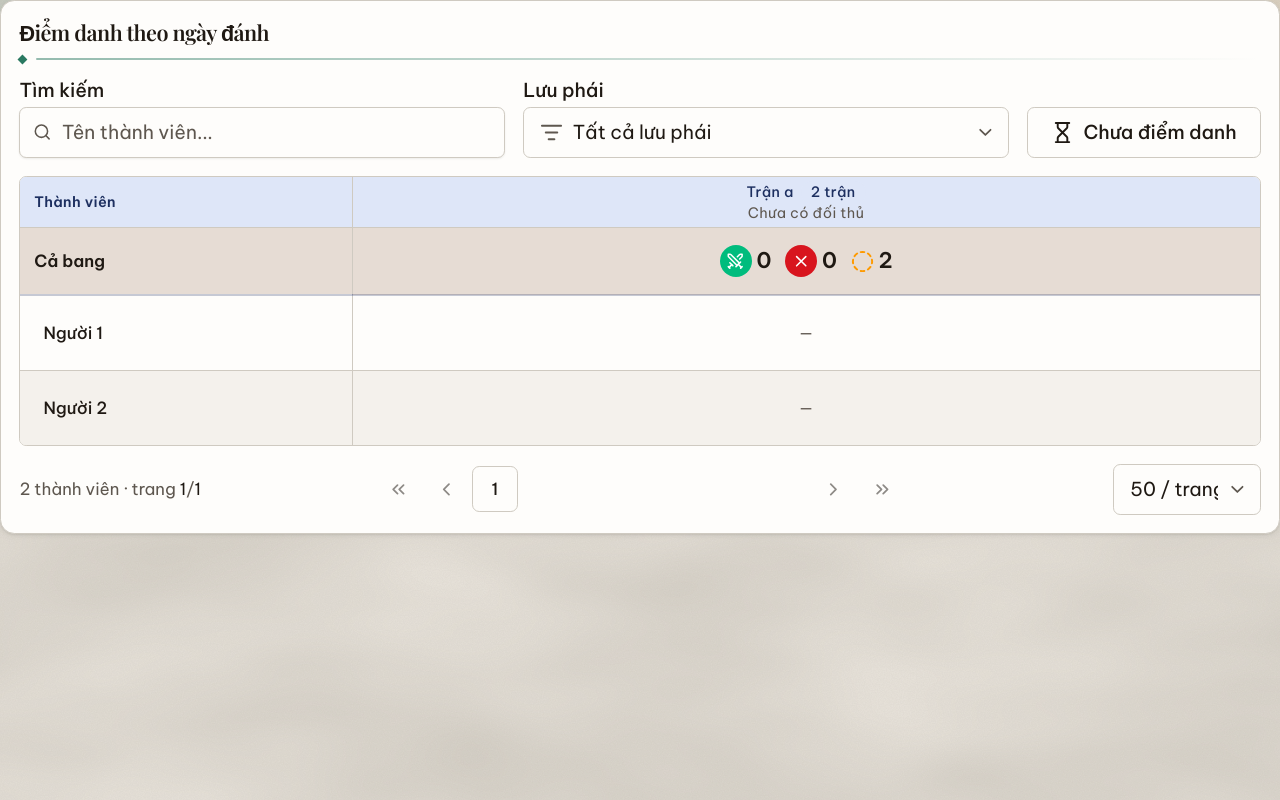
Test case: AttendanceGrid - admin bấm thẳng vào ô › lưu lỗi một phần thì giữ lại đúng ô lỗi và báo lỗi
What coordinates should you click on to do the following:
click the button "—" in the row of "Người 1"
I would click on:
 (806, 333)
Its box is [783,310,829,356].
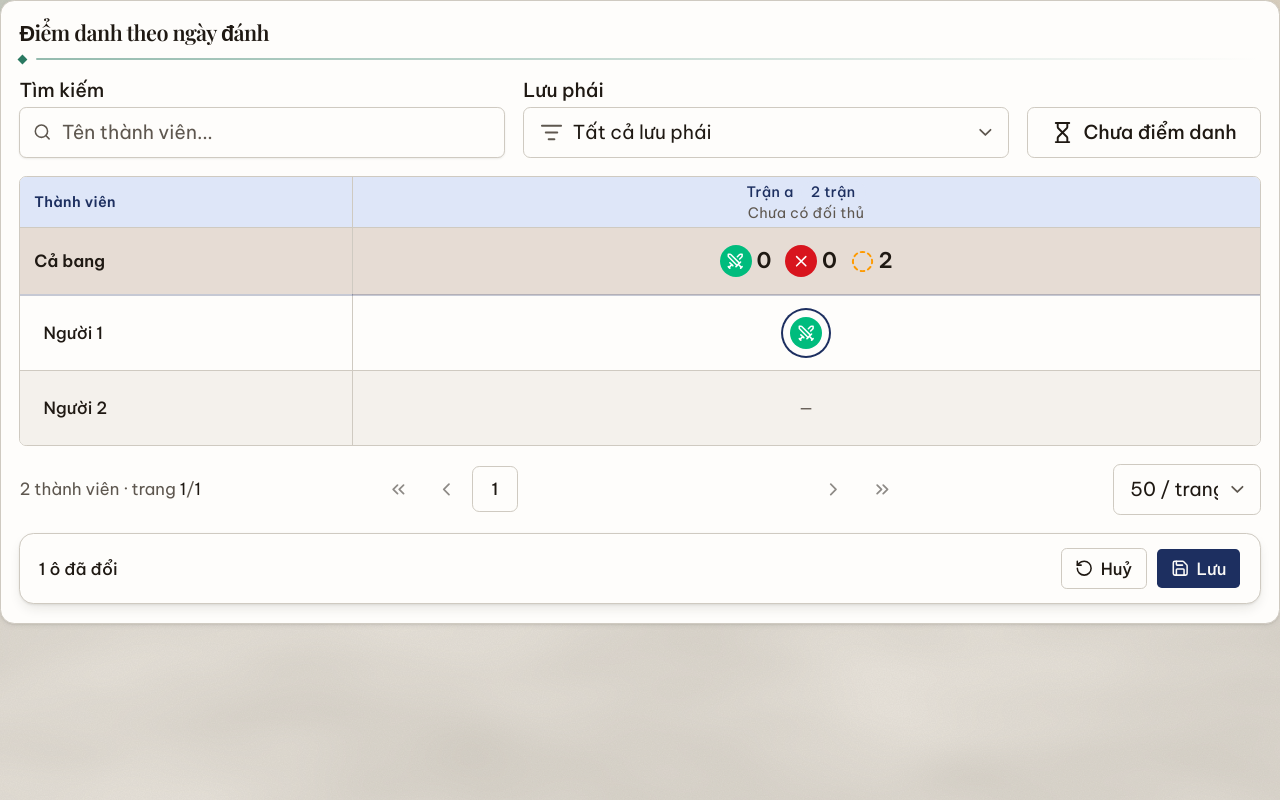
What coordinates should you click on to do the following:
click the button "—"
I would click on:
 (806, 408)
Its box is [783,385,829,431].
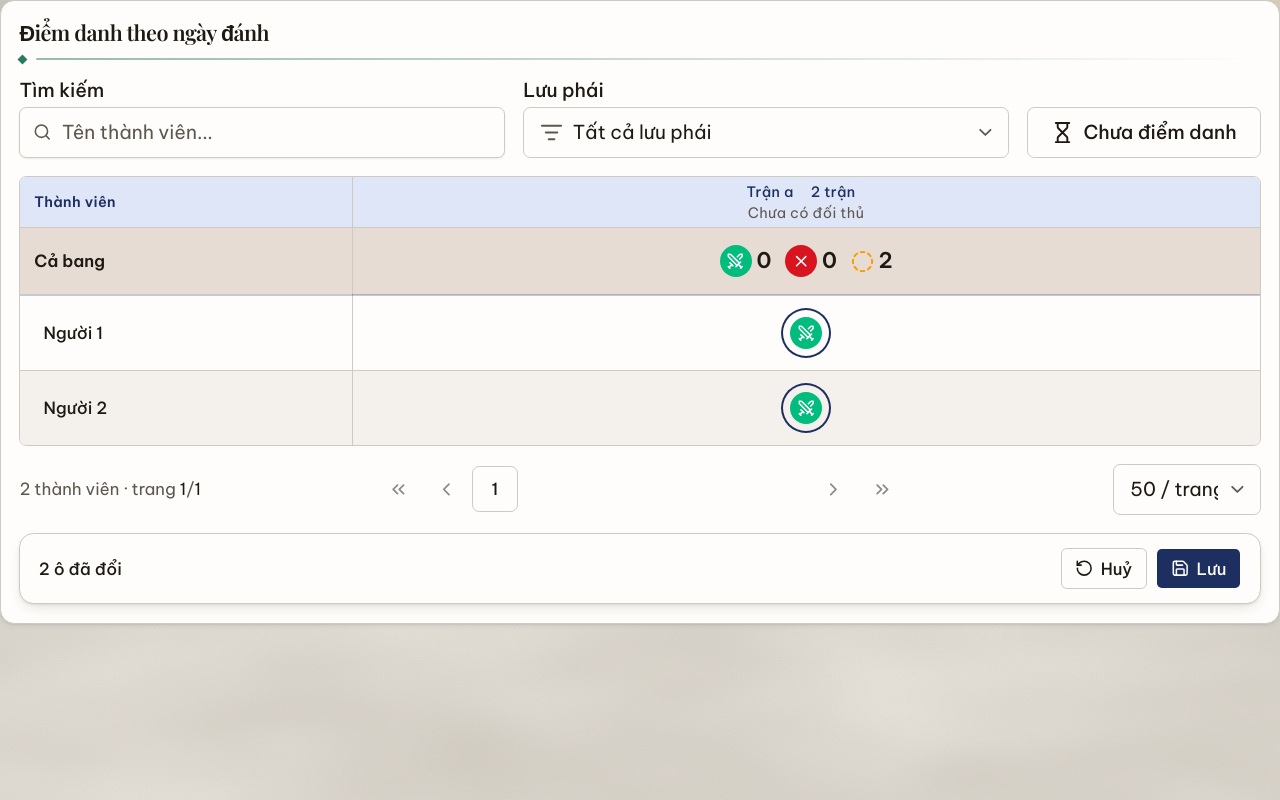
What coordinates should you click on to do the following:
click the button "Lưu"
I would click on:
 (1199, 569)
Its box is [1156,548,1241,589].
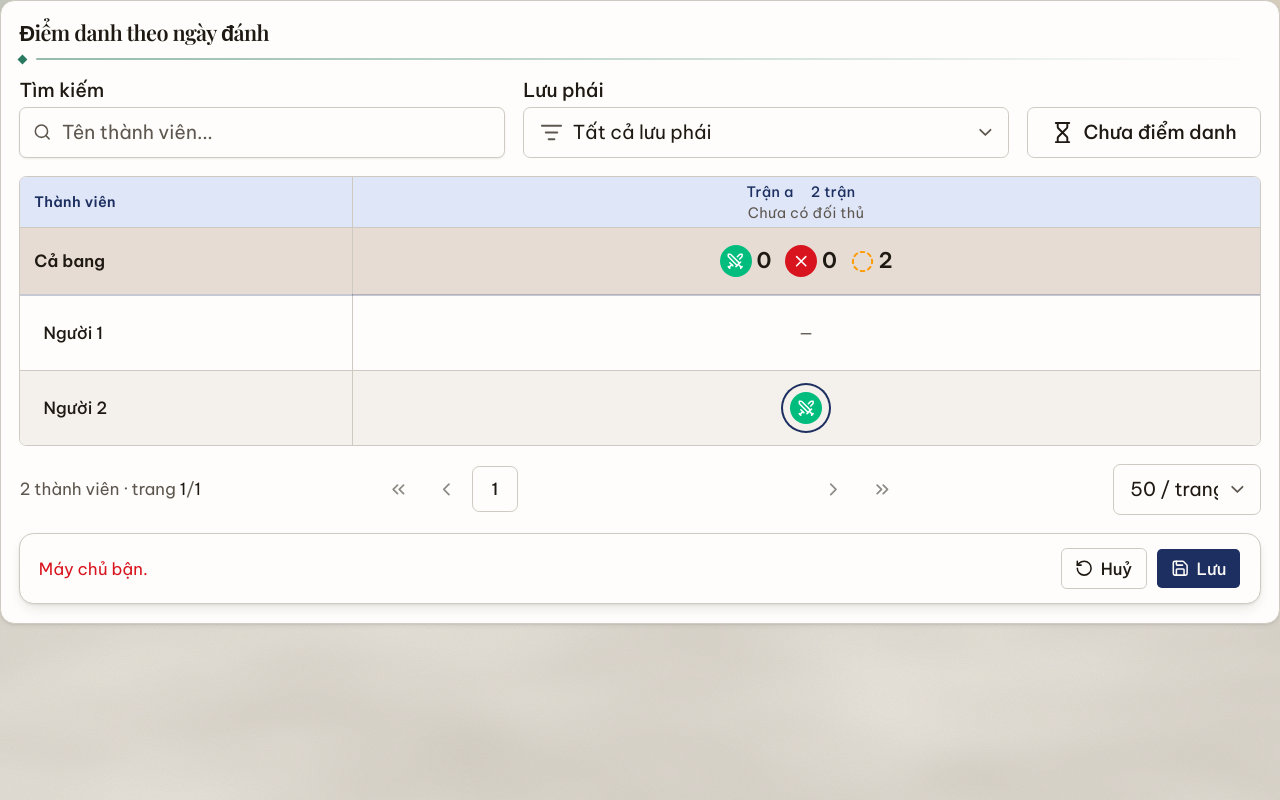
expect the text "Máy chủ bận." is shown: met, box [39,557,148,581]
